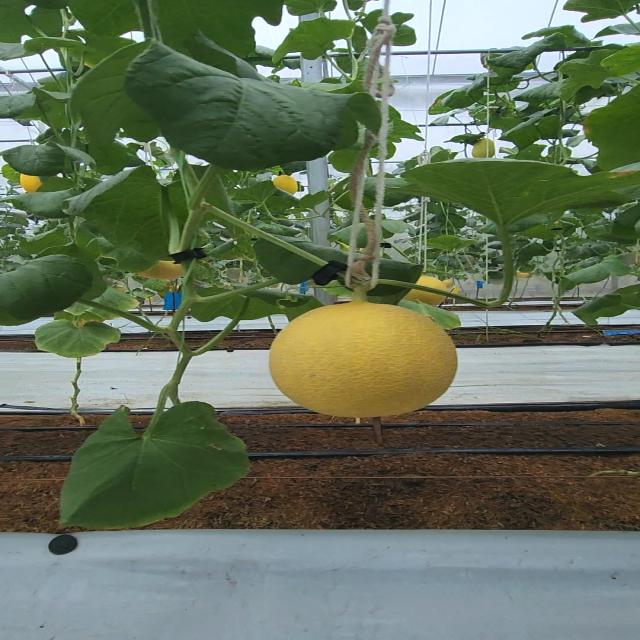Melon: (265, 300, 460, 422), (393, 272, 464, 306)
